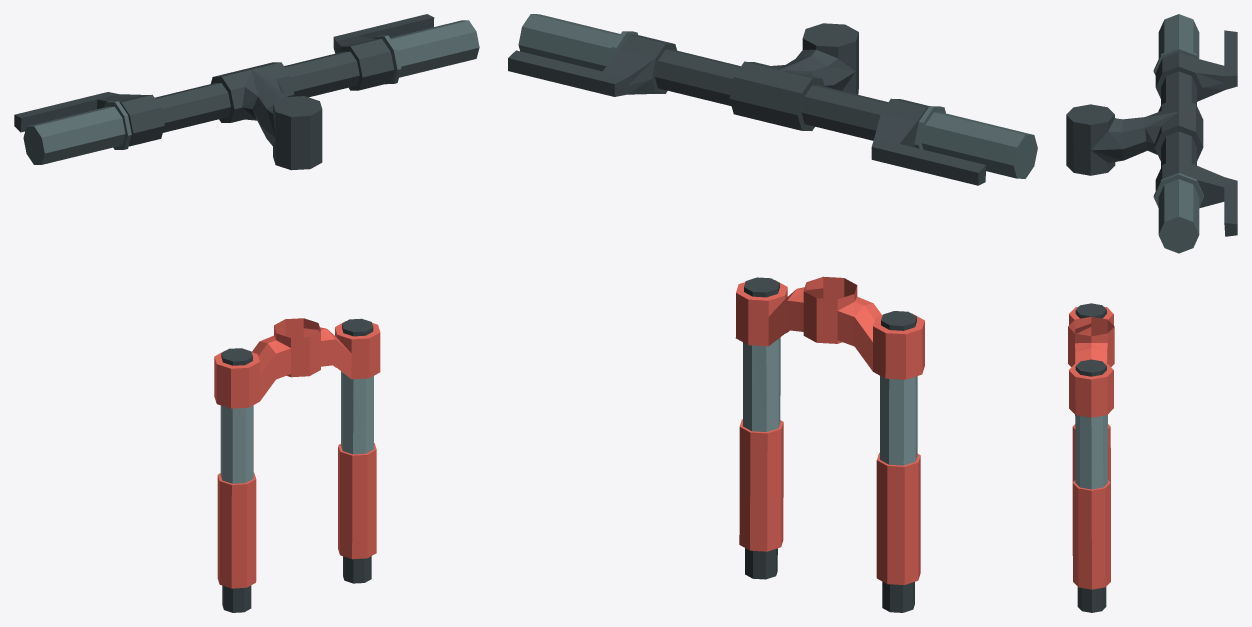
The model's file is arcade.fbx.
3 views of the same model, side by side, from view 1: azimuth 30°, elevation 25°; view 2: azimuth 150°, elevation 25°; view 3: azimuth 270°, elevation 25° (orthographic). The views are drawn at different scales.
Visible parts, largest first — view 1: 0龍頭合併; view 2: 0龍頭合併; view 3: 0龍頭合併.
Part boxes in pixels (x1,y1,x2,y2): 0龍頭合併: [14, 14, 479, 612]; 0龍頭合併: [508, 14, 1037, 612]; 0龍頭合併: [1066, 14, 1237, 612].
Bounding box in the file's own units: 75.39 × 81.2 × 26.96.
